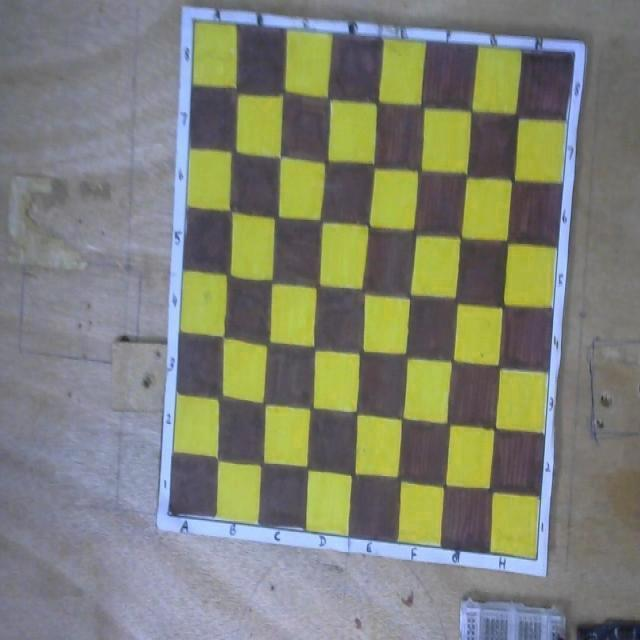chess-table-corners: (166, 510, 173, 517), (572, 48, 576, 58), (192, 17, 196, 23), (536, 555, 538, 562)
